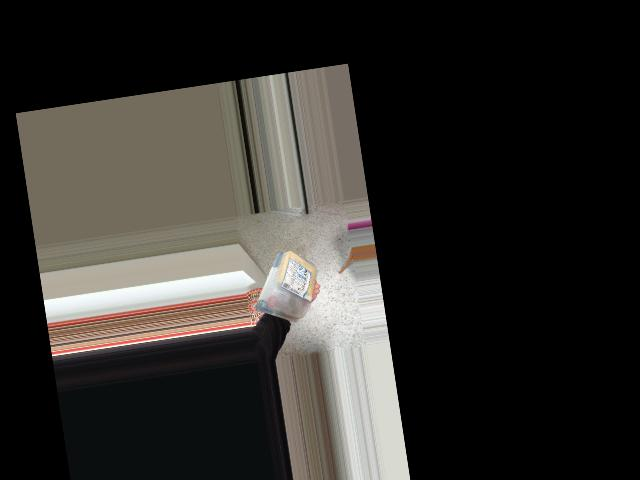cheese: (242, 241, 330, 331)
